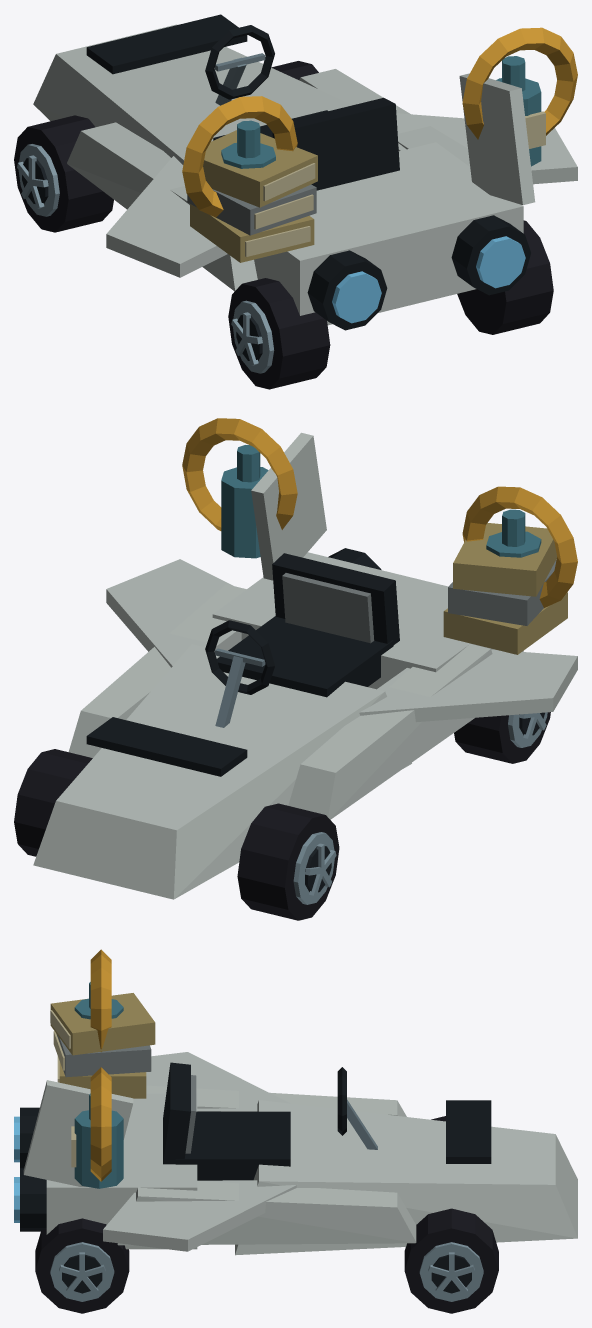
Rendered from kart.glb.
3 renders of one model, top to bottom at view 1: azimuth 30°, elevation 25°; view 2: azimuth 150°, elevation 25°; view 3: azimuth 270°, elevation 25°, orthographic. The views are drawn at different scales.
Parts seen in each view (by area): view 1: identity-shuttle-shuttle-flight-planform, identity-shuttle-motif-books, identity-shuttle-driver-cockpit, identity-shuttle-motif-ring, wheel-rear-left, wheel-front-left, wheel-rear-right, identity-shuttle-motif-bottles, wheel-front-right; view 2: identity-shuttle-shuttle-flight-planform, identity-shuttle-driver-cockpit, identity-shuttle-motif-books, identity-shuttle-motif-ring, wheel-front-left, identity-shuttle-motif-bottles, wheel-front-right, wheel-rear-left; view 3: identity-shuttle-shuttle-flight-planform, identity-shuttle-driver-cockpit, wheel-front-right, identity-shuttle-motif-books, wheel-rear-right, identity-shuttle-motif-ring, identity-shuttle-motif-bottles.
Part boxes in pixels (x1,y1,x2,y2): identity-shuttle-shuttle-flight-planform: (33,14,577,330); identity-shuttle-motif-books: (187,130,317,262); identity-shuttle-driver-cockpit: (205,25,399,190); identity-shuttle-motif-ring: (182,27,577,217); wheel-rear-left: (228,278,330,389); wheel-front-left: (14,115,113,232); wheel-rear-right: (457,220,553,334); identity-shuttle-motif-bottles: (221,56,545,168); wheel-front-right: (271,61,318,79); identity-shuttle-shuttle-flight-planform: (33,432,577,899); identity-shuttle-driver-cockpit: (205,553,399,727); identity-shuttle-motif-books: (443,523,567,654); identity-shuttle-motif-ring: (182,418,577,607); wheel-front-left: (237,803,339,920); identity-shuttle-motif-bottles: (221,445,541,558); wheel-front-right: (14,749,92,856); wheel-rear-left: (454,712,550,763); identity-shuttle-shuttle-flight-planform: (14,1052,577,1255); identity-shuttle-driver-cockpit: (163,1062,377,1180); wheel-front-right: (404,1208,498,1313); identity-shuttle-motif-books: (50,993,155,1098); wheel-rear-right: (35,1218,129,1313); identity-shuttle-motif-ring: (90,949,111,1181); identity-shuttle-motif-bottles: (71,982,123,1188).
Size of the model in its own units: 2.36 by 1.42 by 2.99.
